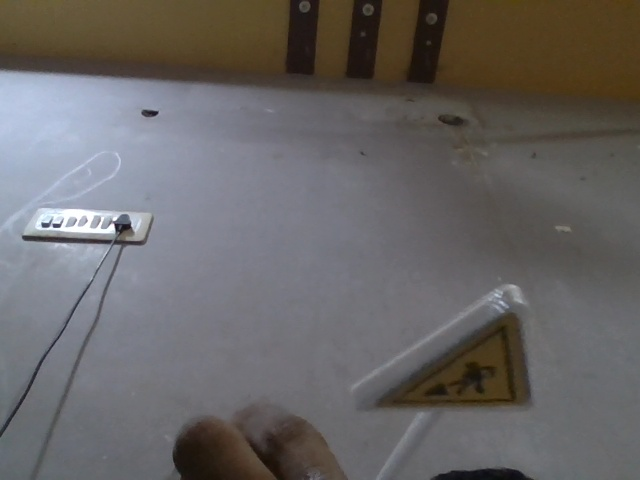workinprogress: (303, 247, 533, 427)
